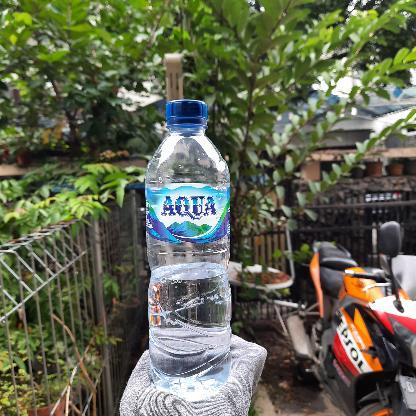Plastic Bottle: (145, 96, 233, 376)
